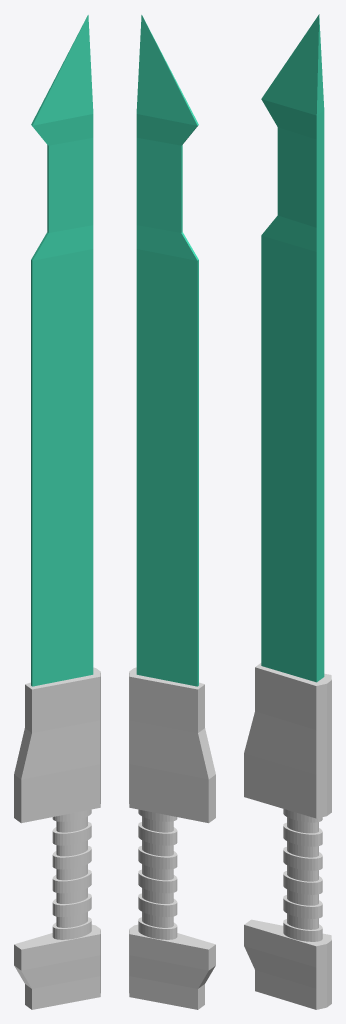
The model's file is sword.fbx.
The picture shows the model from 3 angles, left to right: view 1: azimuth 30°, elevation 25°; view 2: azimuth 150°, elevation 25°; view 3: azimuth 330°, elevation 25°; orthographic projection.
Parts seen in each view (by area): view 1: Cylinder; view 2: Cylinder; view 3: Cylinder.
Boxes of the visible parts, x1,y1,x2,y2 form: Cylinder: (14, 15, 100, 1009); Cylinder: (129, 15, 215, 1009); Cylinder: (244, 14, 331, 1009).
Size of the model in its own units: 129 by 1493 by 41.5.
